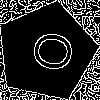O: (21, 27, 76, 75)
